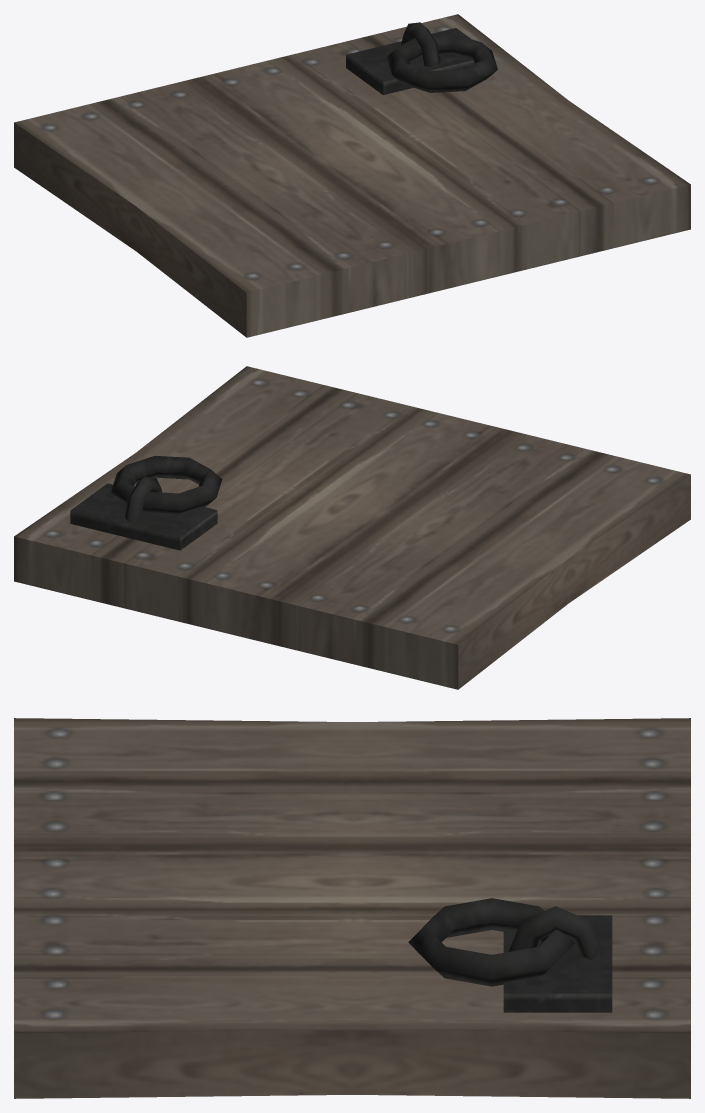
File: Door_Half_A.fbx
3 views of the same model, one above another, from view 1: azimuth 30°, elevation 25°; view 2: azimuth 150°, elevation 25°; view 3: azimuth 270°, elevation 25° (orthographic). The views are drawn at different scales.
Visible parts, largest first — view 1: Door_Half_A; view 2: Door_Half_A; view 3: Door_Half_A.
Part boxes in pixels (left/top/right/bottom): Door_Half_A: left=14, top=14, right=690, bottom=337; Door_Half_A: left=14, top=366, right=690, bottom=689; Door_Half_A: left=14, top=718, right=690, bottom=1098.
Size of the model in its own units: 1.26 by 0.2485 by 1.15.
